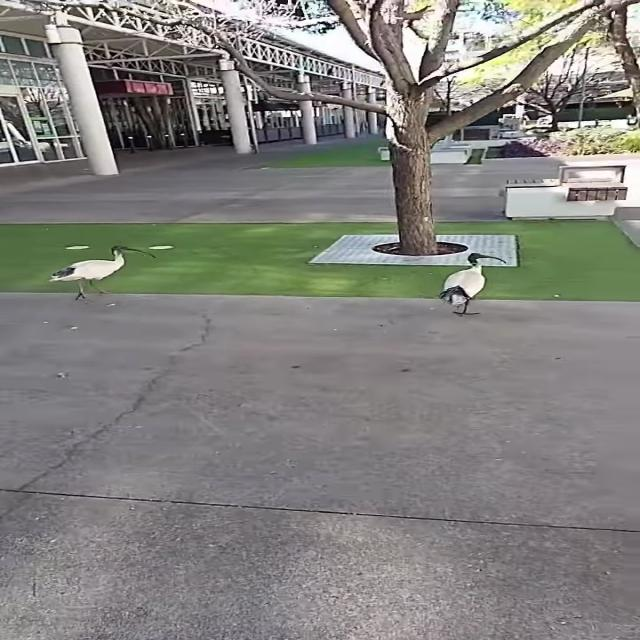Birds-Ibis: (42, 240, 162, 302), (435, 248, 513, 319)
